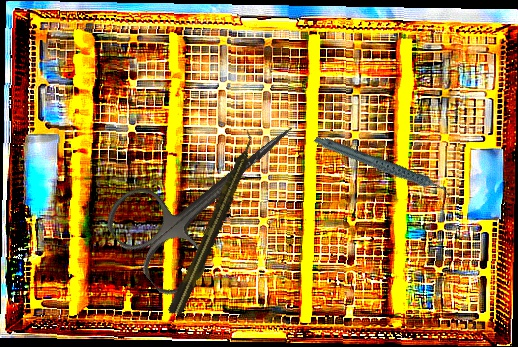Handpiece: (165, 129, 263, 320), (312, 110, 453, 225)
Iris Scissors: (97, 86, 329, 304)
